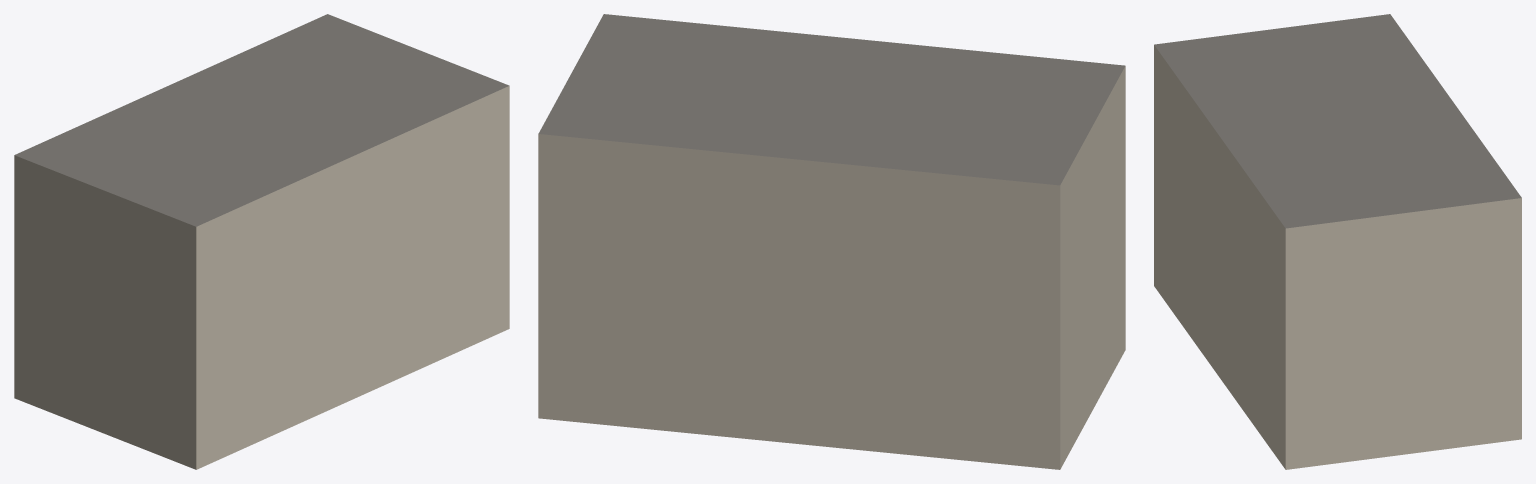
3 views of the same model, side by side, from view 1: azimuth 30°, elevation 25°; view 2: azimuth 150°, elevation 25°; view 3: azimuth 270°, elevation 25° (orthographic). The views are drawn at different scales.
Parts seen in each view (by area): view 1: HP-w1202493223; view 2: HP-w1202493223; view 3: HP-w1202493223.
Part boxes in pixels (bbox=[...]): HP-w1202493223: bbox=[14, 14, 509, 469]; HP-w1202493223: bbox=[538, 14, 1125, 469]; HP-w1202493223: bbox=[1154, 14, 1521, 469].
Size of the model in its own units: 22.87 by 12 by 16.58.
